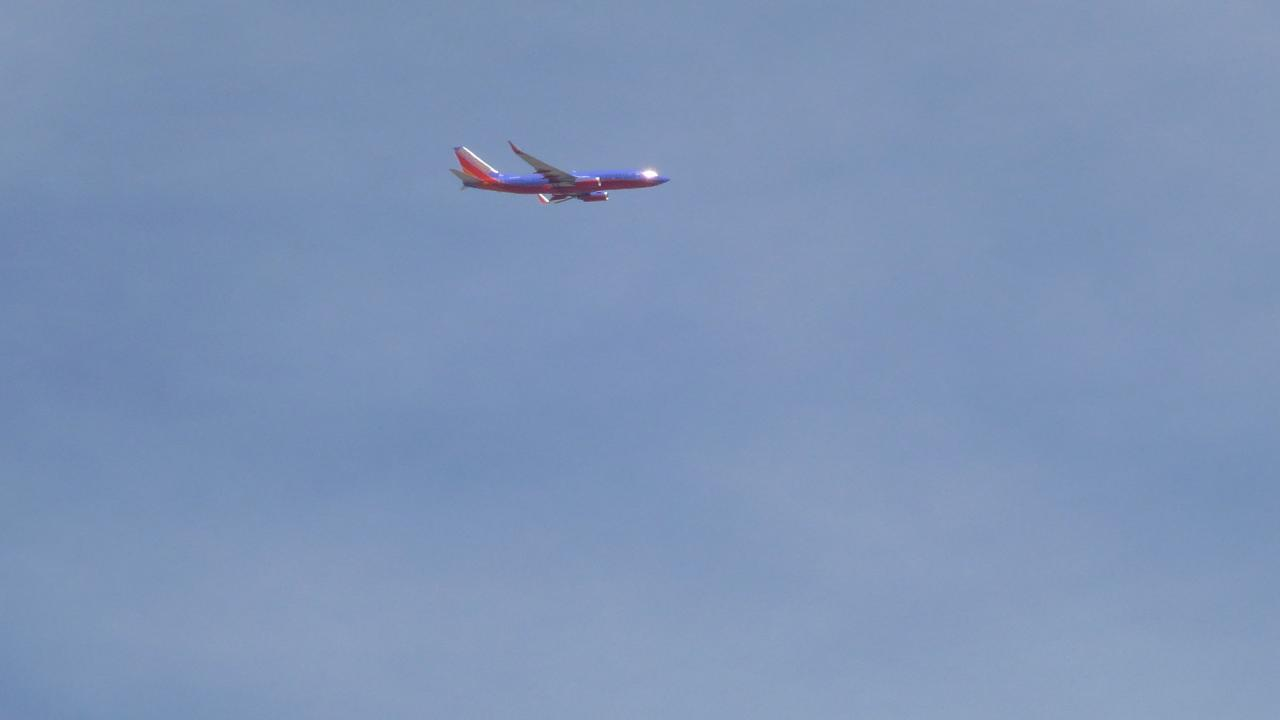Airplane: (436, 123, 684, 222)
